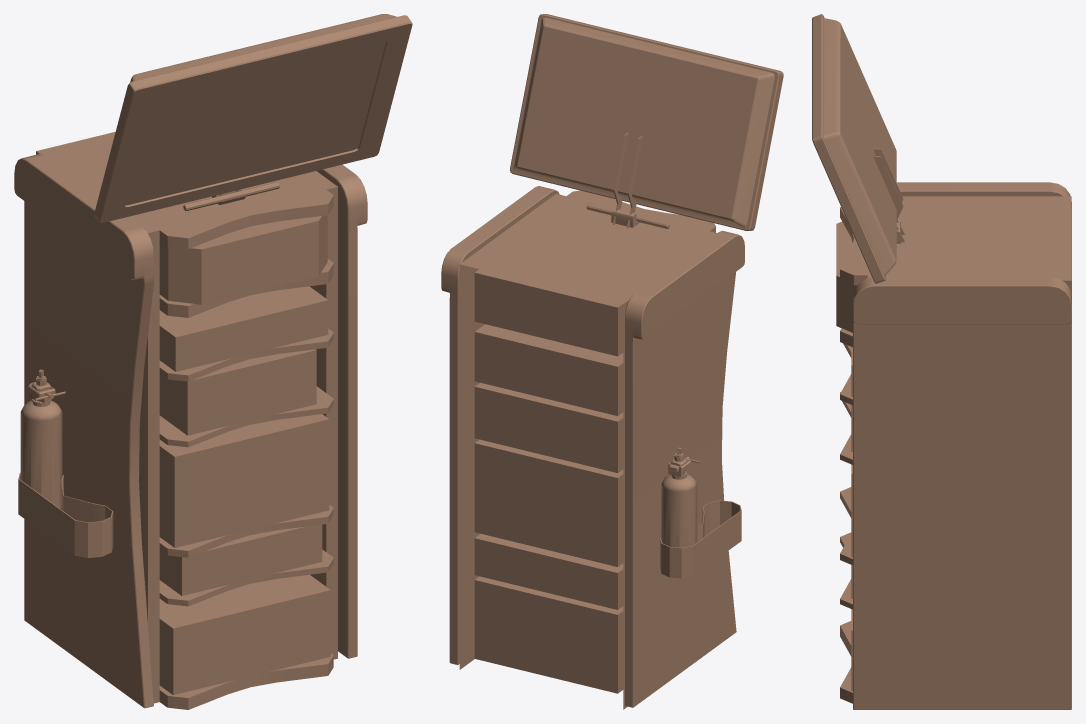
Rendered from MonitorCart.fbx.
3 renders of one model, left to right at view 1: azimuth 30°, elevation 25°; view 2: azimuth 150°, elevation 25°; view 3: azimuth 270°, elevation 25°, orthographic. The views are drawn at different scales.
Visible parts, largest first — view 1: Furniture_MonitorCart_01:Furniture_MonitorCart_01; view 2: Furniture_MonitorCart_01:Furniture_MonitorCart_01; view 3: Furniture_MonitorCart_01:Furniture_MonitorCart_01.
Part boxes in pixels (x1,y1,x2,y2): Furniture_MonitorCart_01:Furniture_MonitorCart_01: [14, 14, 412, 709]; Furniture_MonitorCart_01:Furniture_MonitorCart_01: [441, 14, 783, 709]; Furniture_MonitorCart_01:Furniture_MonitorCart_01: [812, 14, 1071, 709].
Bounding box in the file's own units: 16.72 × 36.62 × 14.54.
